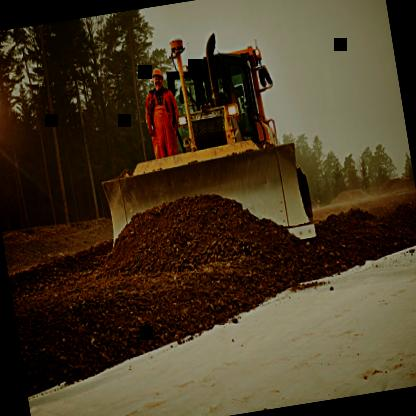helmet: (149, 65, 166, 92)
